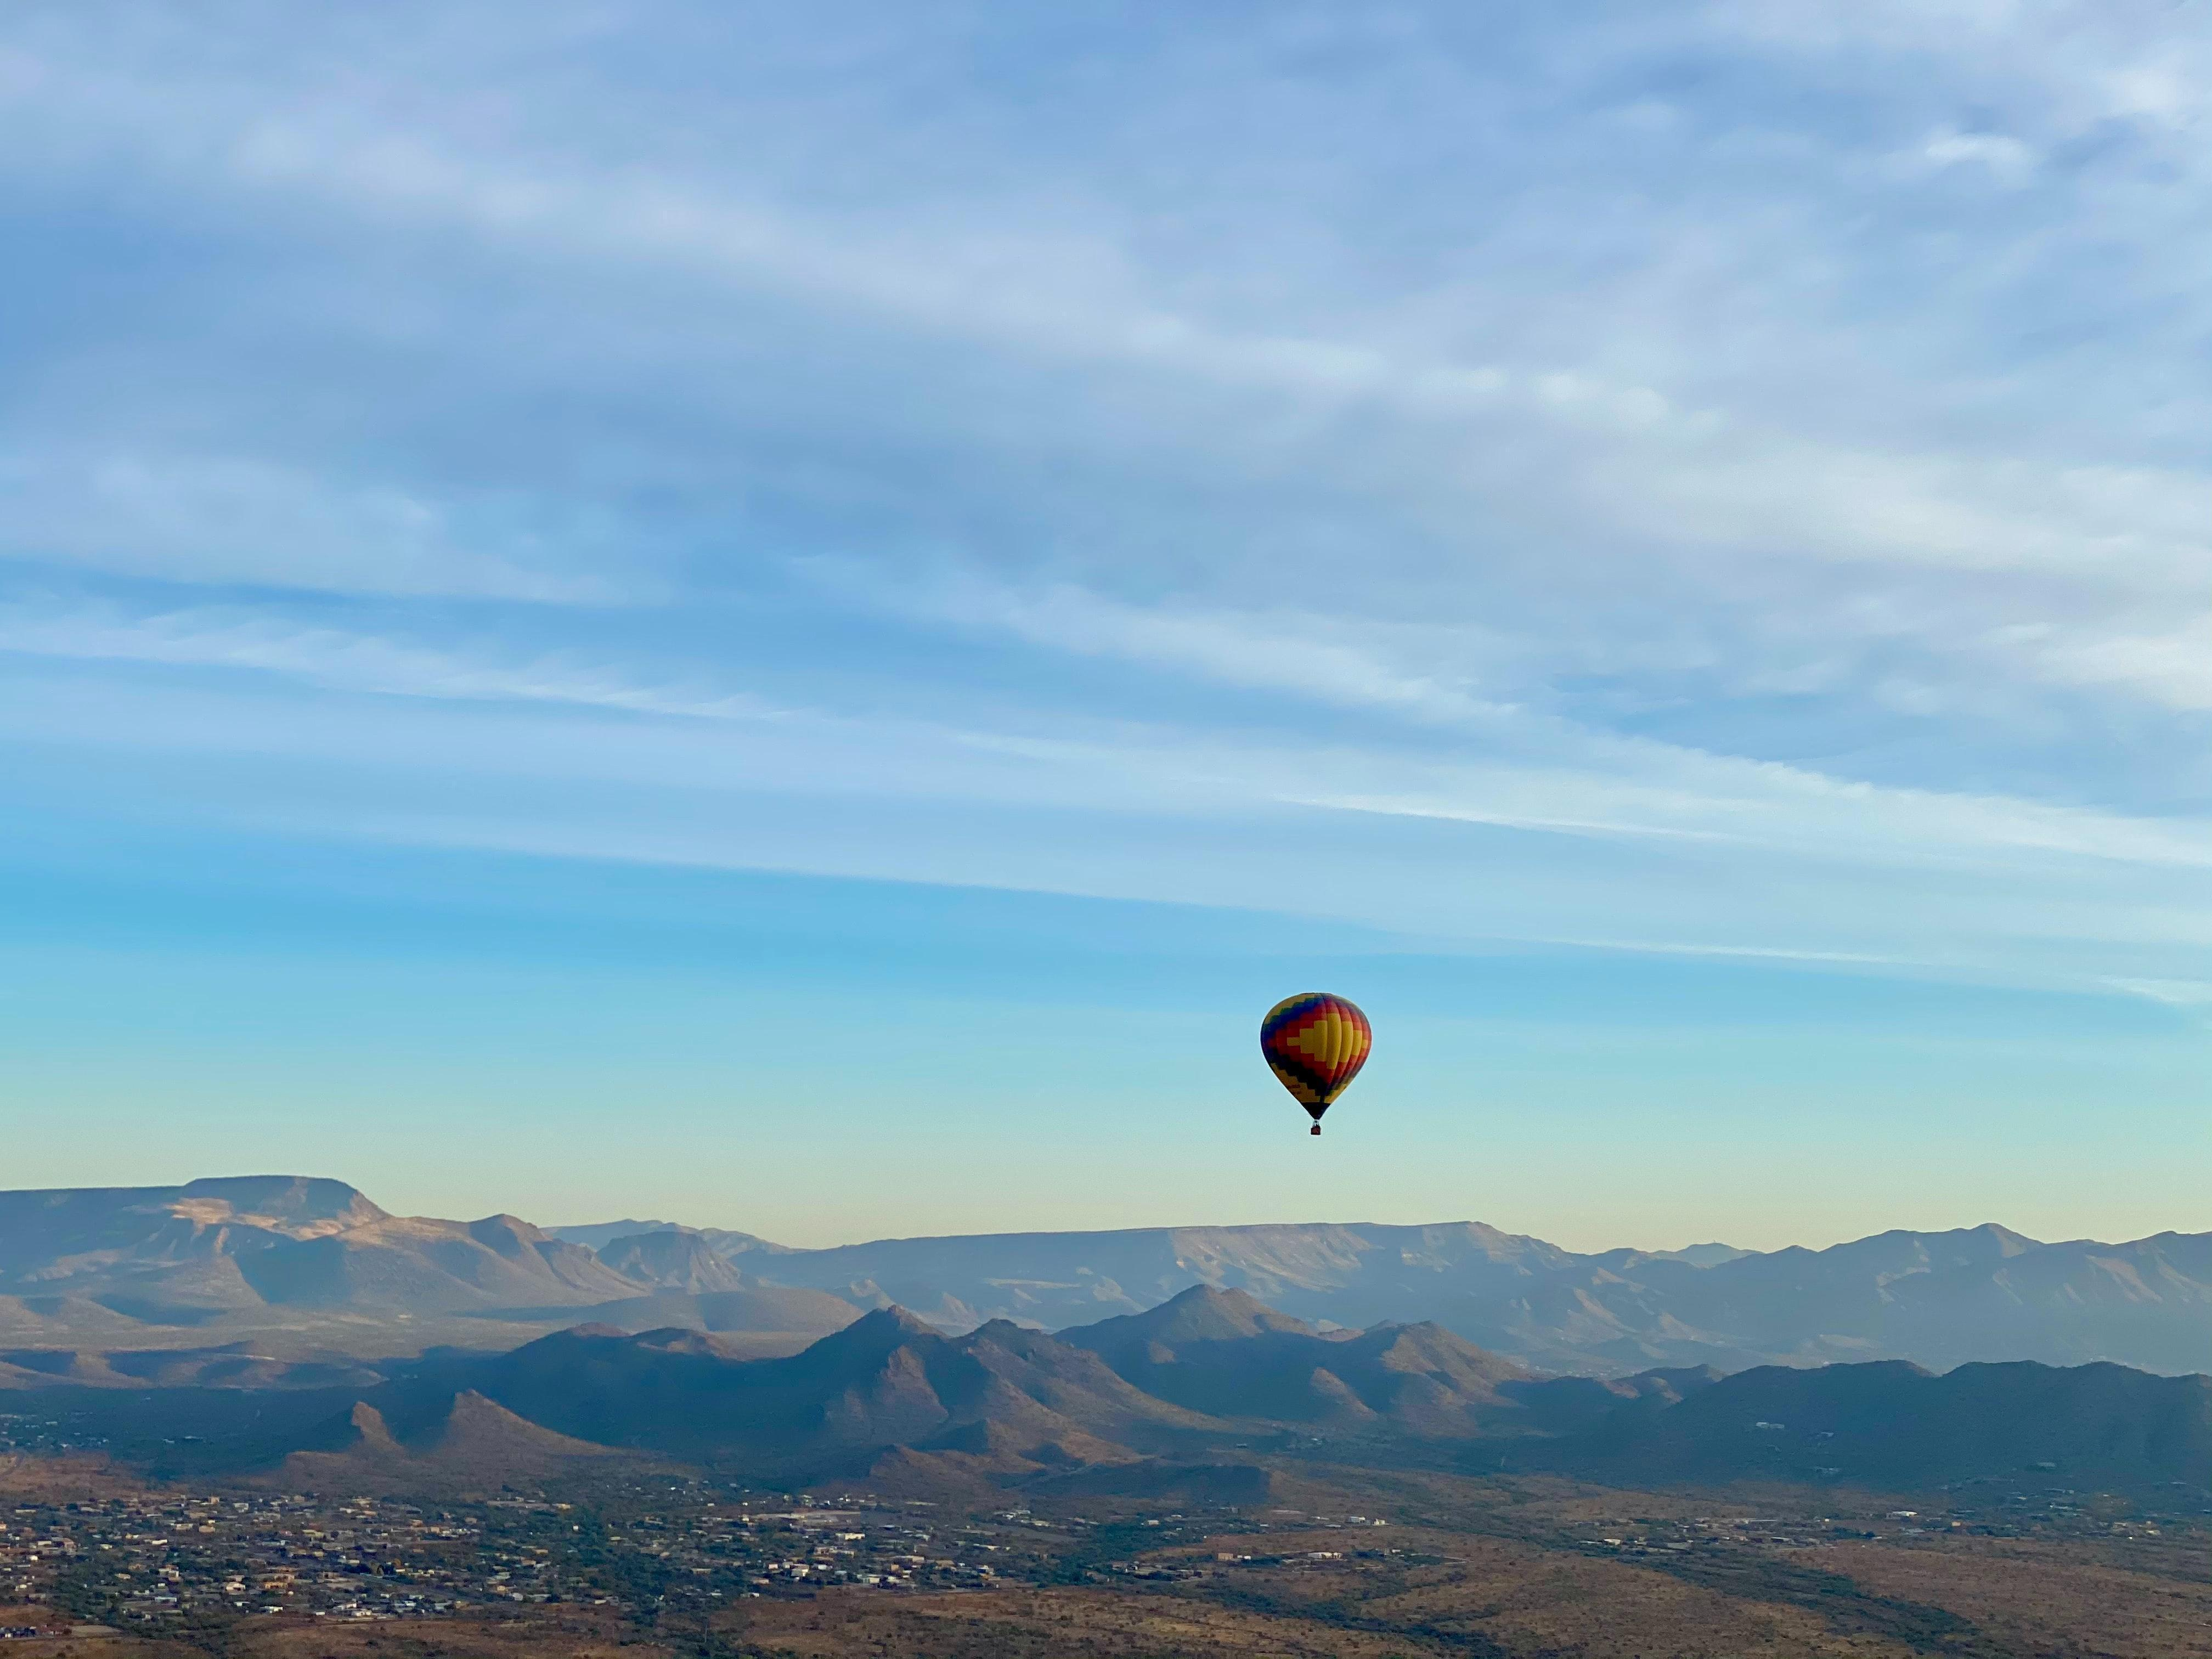hot air ballon: (1259, 993, 1372, 1136)
